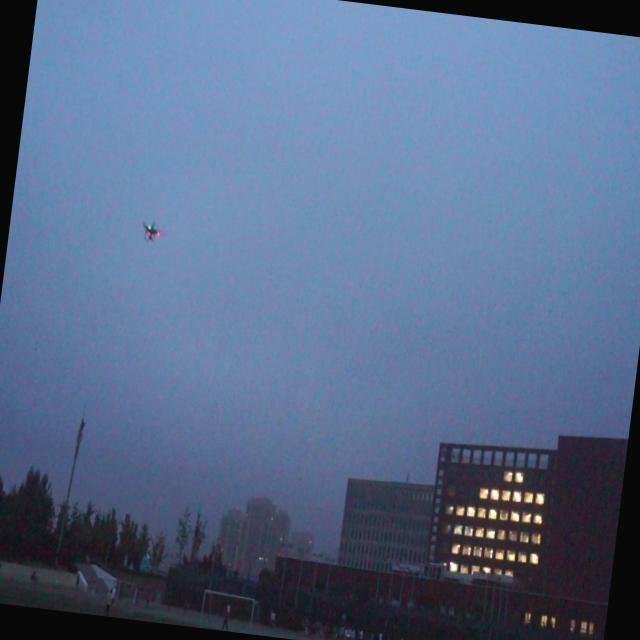drone: (137, 214, 165, 248)
